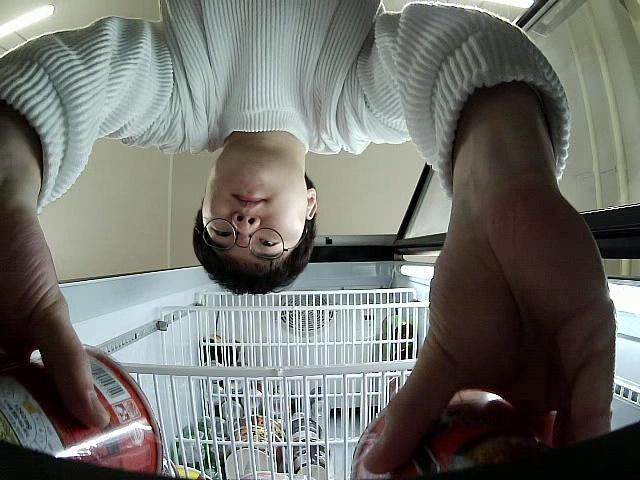02_shinRamen_S: (3, 342, 160, 478), (350, 391, 542, 480)
